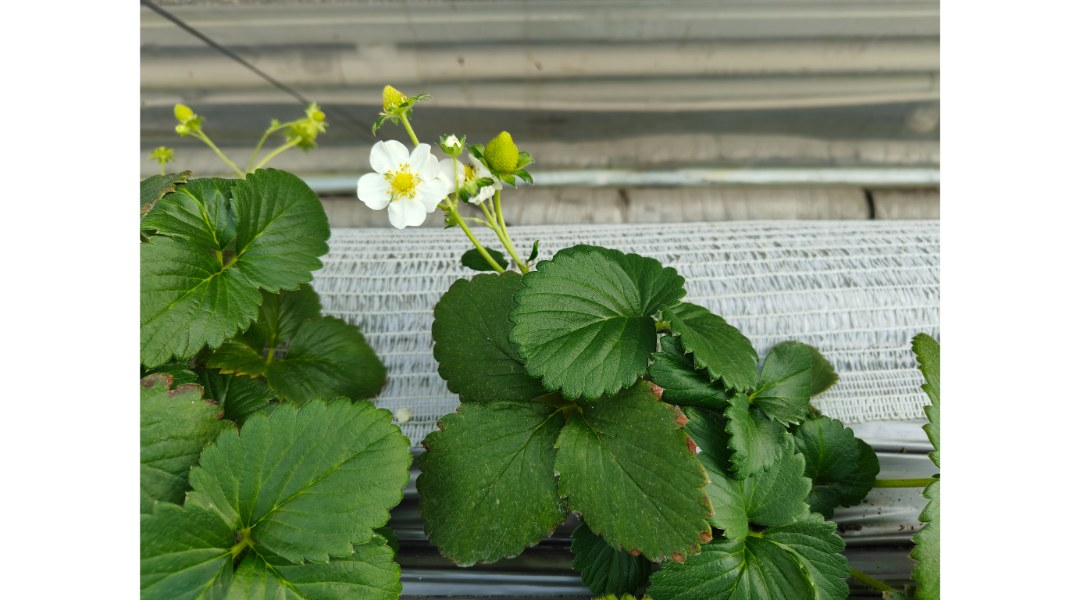berry: (473, 112, 538, 187), (370, 78, 426, 123), (158, 103, 215, 141), (275, 107, 345, 130), (292, 118, 316, 154)
flower: (349, 125, 461, 239)
strain: (443, 206, 511, 277), (201, 133, 243, 177), (254, 140, 297, 169), (401, 113, 429, 151)
